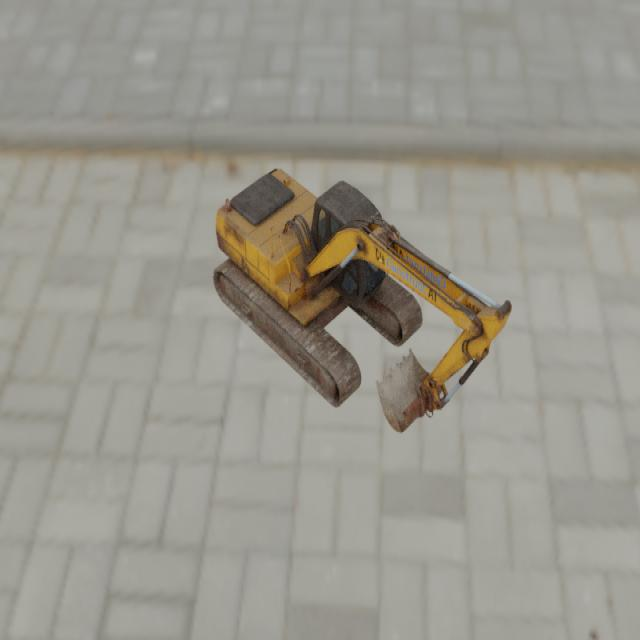excavator: (212, 167, 512, 433)
